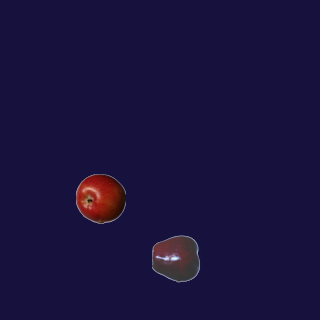Apple Braeburn: (75, 173, 125, 223)
Apple Red Delicious: (151, 233, 201, 283)
